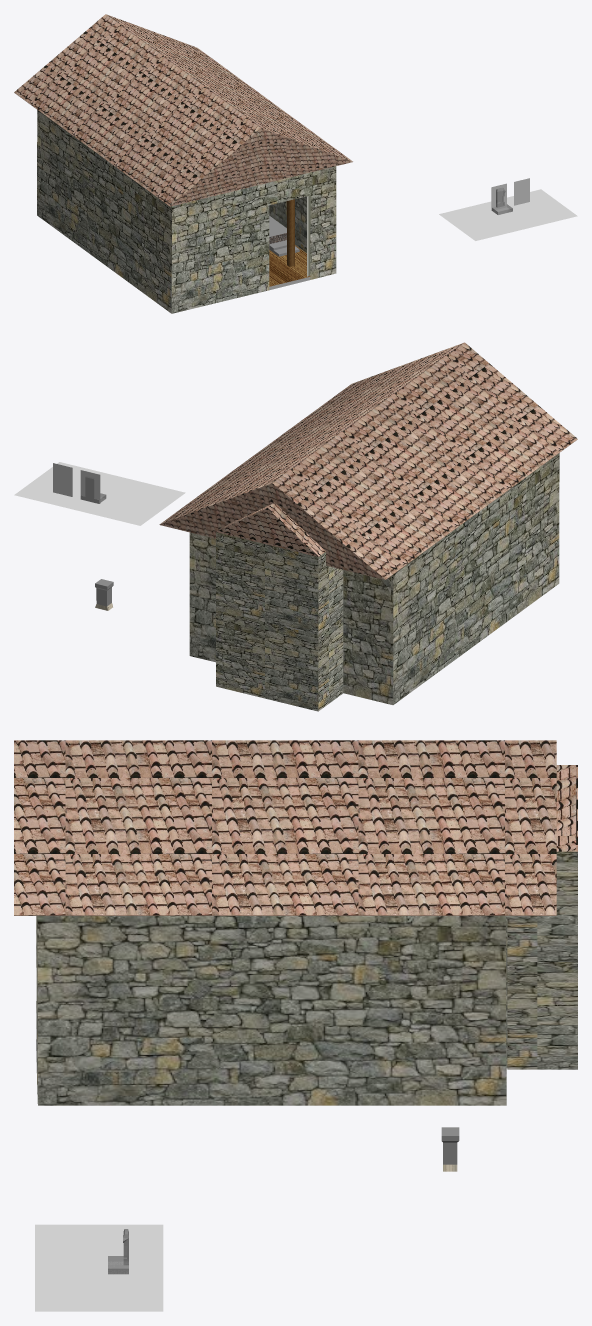
Rendered from roofextension.FBX.
The picture shows the model from 3 angles, top to bottom: view 1: azimuth 30°, elevation 25°; view 2: azimuth 150°, elevation 25°; view 3: azimuth 270°, elevation 25°; orthographic projection. The views are drawn at different scales.
Visible parts, largest first — view 1: Box002, Plane001, Plane003, Mithraeum In, Pillar Right Nave, Plane005; view 2: Box002, Plane001, Plane002, Plane003, Plane004, Plane005, Outside Altar; view 3: Box002, Plane001, Plane002, Plane003, Outside Altar.
Part boxes in pixels (x1,y1,x2,y2): Box002: (14, 14, 352, 206); Plane001: (37, 110, 336, 313); Plane003: (439, 189, 577, 240); Mithraeum In: (269, 195, 310, 286); Pillar Right Nave: (287, 199, 294, 266); Plane005: (514, 178, 529, 205); Box002: (159, 342, 577, 579); Plane001: (189, 453, 559, 704); Plane002: (216, 502, 343, 711); Plane003: (14, 462, 185, 525); Plane004: (80, 470, 100, 503); Plane005: (53, 463, 72, 496); Outside Altar: (95, 579, 113, 610); Box002: (14, 740, 556, 915); Plane001: (36, 916, 506, 1105); Plane002: (507, 765, 577, 1069); Plane003: (35, 1224, 163, 1311); Outside Altar: (441, 1127, 459, 1171).
Size of the model in its own units: 666 by 264 by 451.
